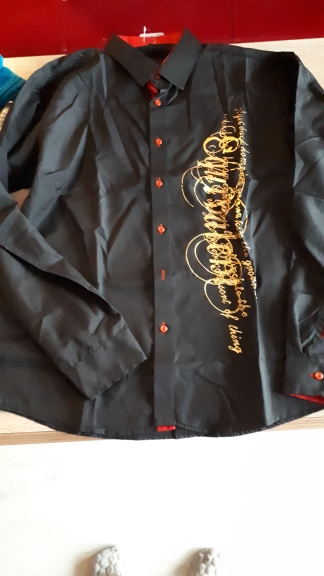shirts: (24, 30, 319, 341)
